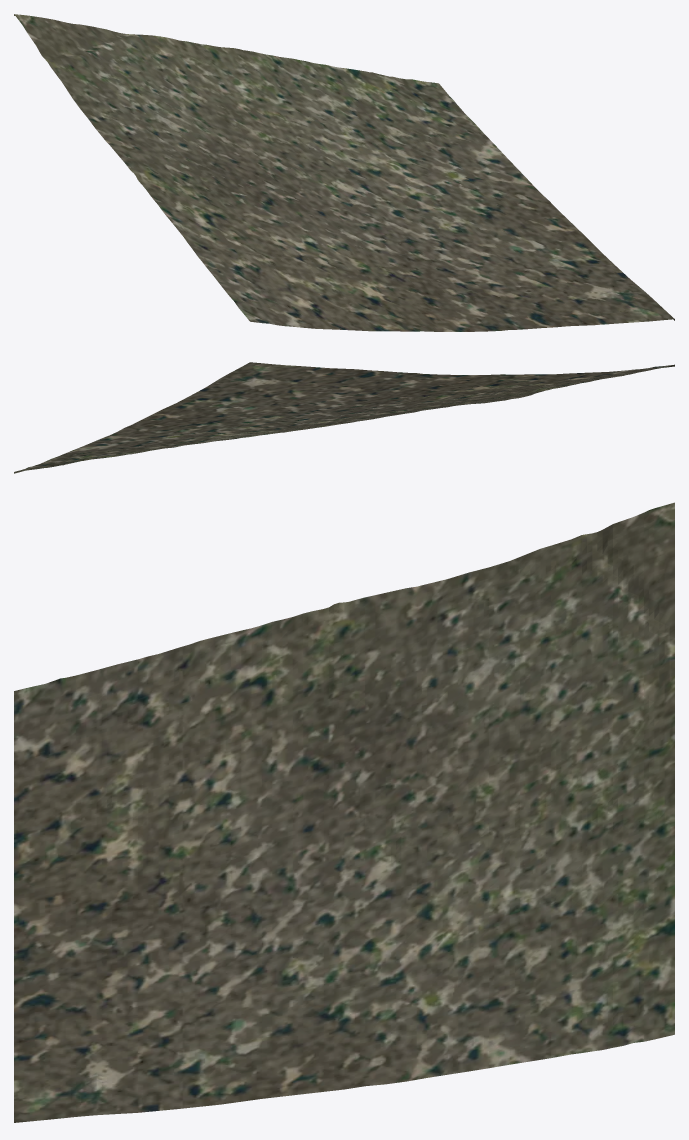
3 renders of one model, top to bottom at view 1: azimuth 30°, elevation 25°; view 2: azimuth 150°, elevation 25°; view 3: azimuth 270°, elevation 25°, orthographic. The views are drawn at different scales.
Size of the model in its own units: 250 by 134 by 241.
1 material, 1 textured.
